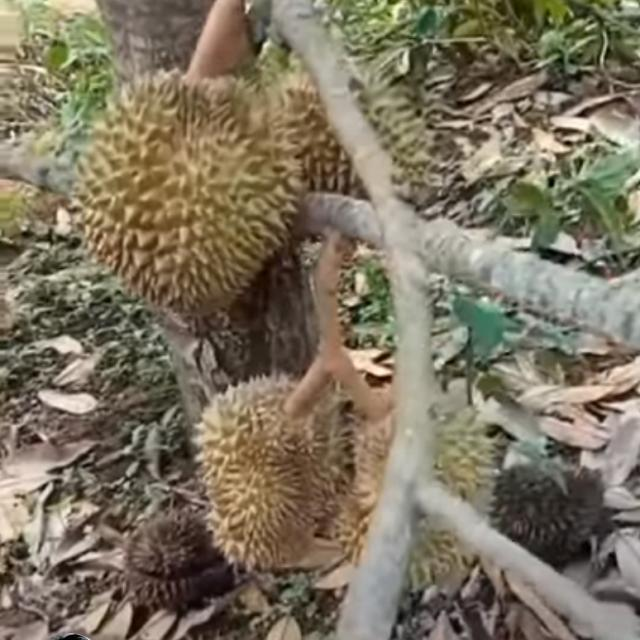defective: (115, 503, 235, 611), (488, 461, 606, 568)
mature: (66, 67, 302, 320), (191, 372, 341, 568)
